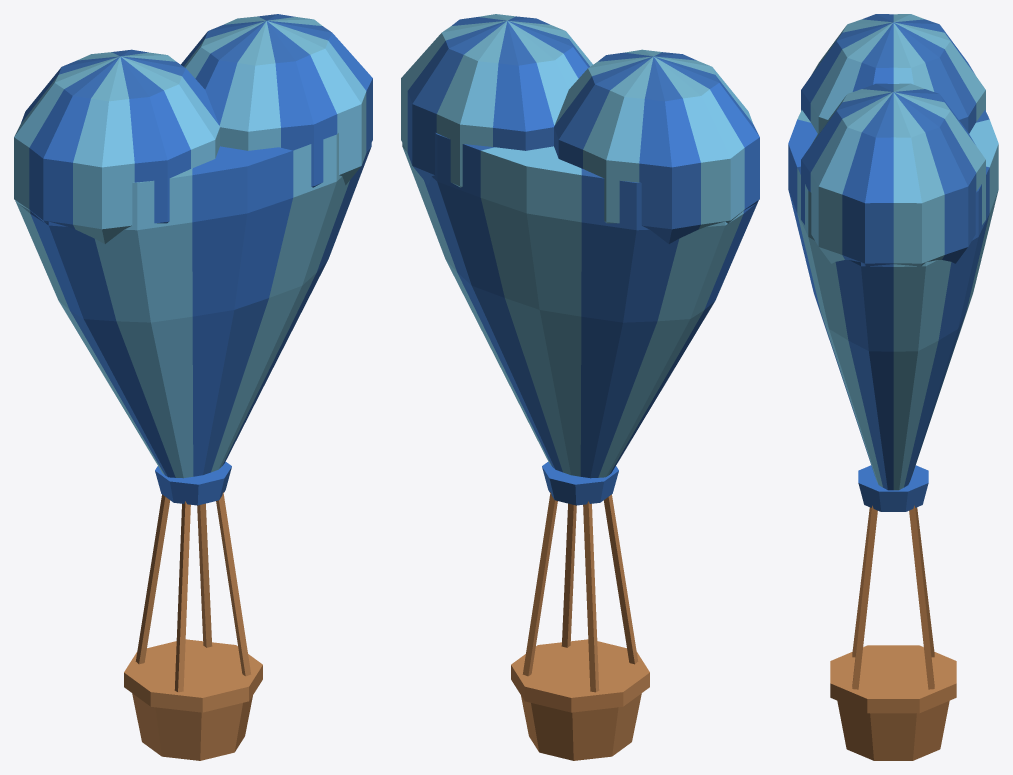
File: balloon_heart.glb
The picture shows the model from 3 angles, left to right: view 1: azimuth 30°, elevation 25°; view 2: azimuth 150°, elevation 25°; view 3: azimuth 270°, elevation 25°; orthographic projection. The views are drawn at different scales.
Parts seen in each view (by area): view 1: skin, basket, string, knot; view 2: skin, basket, string, knot; view 3: skin, basket, string, knot.
Part boxes in pixels (x1=…): skin: x1=14, y1=14, x2=372, y2=478; basket: x1=124, y1=639, x2=262, y2=760; string: x1=135, y1=492, x2=251, y2=692; knot: x1=155, y1=461, x2=231, y2=505; skin: x1=401, y1=14, x2=759, y2=478; basket: x1=511, y1=639, x2=649, y2=760; string: x1=522, y1=492, x2=638, y2=692; knot: x1=542, y1=461, x2=618, y2=505; skin: x1=788, y1=14, x2=998, y2=490; basket: x1=830, y1=645, x2=956, y2=760; string: x1=852, y1=505, x2=934, y2=689; knot: x1=858, y1=465, x2=928, y2=511.
Size of the model in its own units: 0.0586 by 0.119 by 0.0332.
